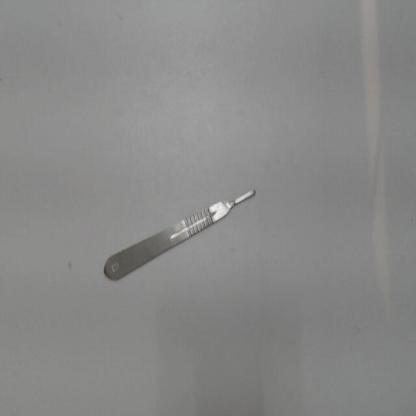No.3 BP Handle: (99, 172, 267, 298)
